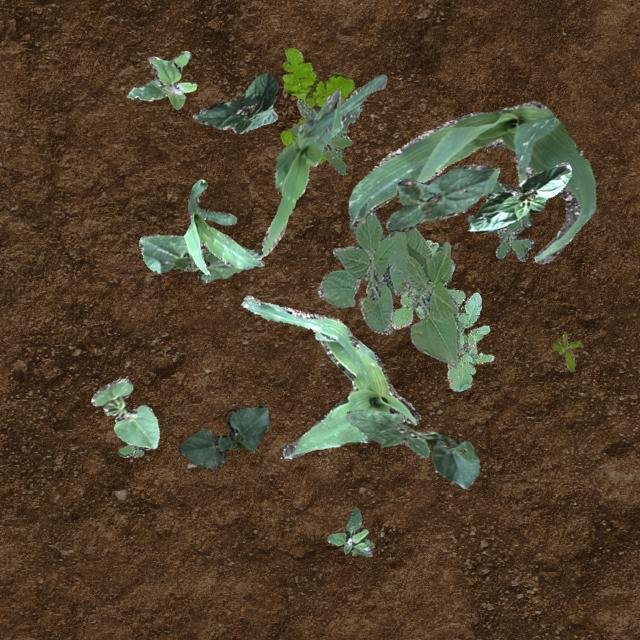crop: (348, 100, 596, 262), (240, 294, 420, 458), (260, 74, 386, 255), (316, 210, 459, 366), (344, 408, 478, 488), (182, 178, 264, 274), (384, 163, 498, 230), (466, 160, 570, 232), (138, 232, 262, 282), (178, 404, 270, 468), (192, 70, 278, 132), (90, 378, 158, 448)
weed: (392, 240, 492, 390), (280, 48, 352, 162), (464, 168, 536, 260), (290, 98, 356, 174), (127, 50, 196, 109), (326, 506, 374, 556), (552, 332, 580, 370), (118, 442, 150, 457)
